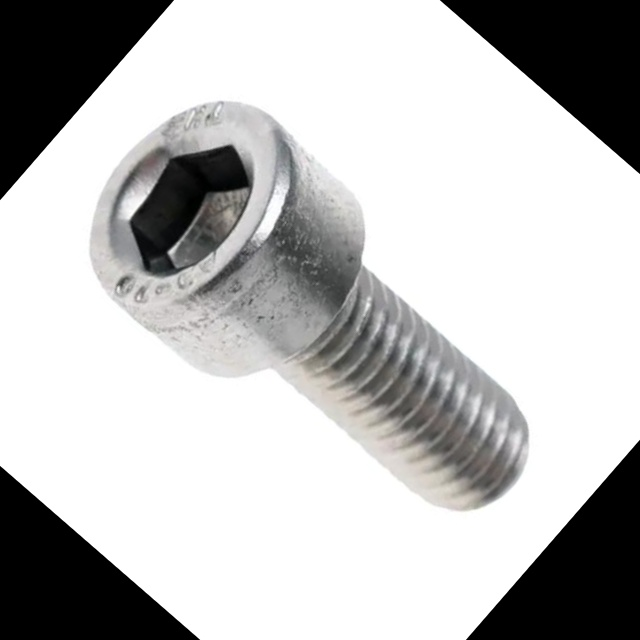allen: (100, 114, 279, 299)
